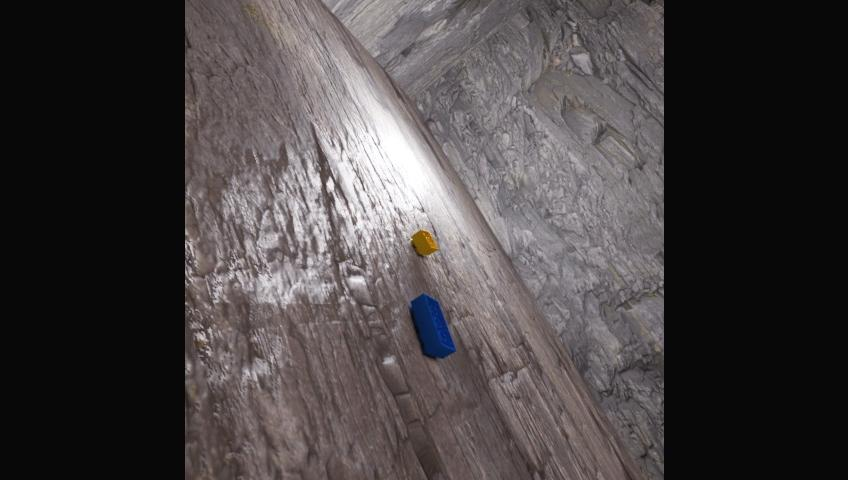2x2_yellow: (411, 229, 439, 254)
4x2_blue: (410, 293, 457, 358)
